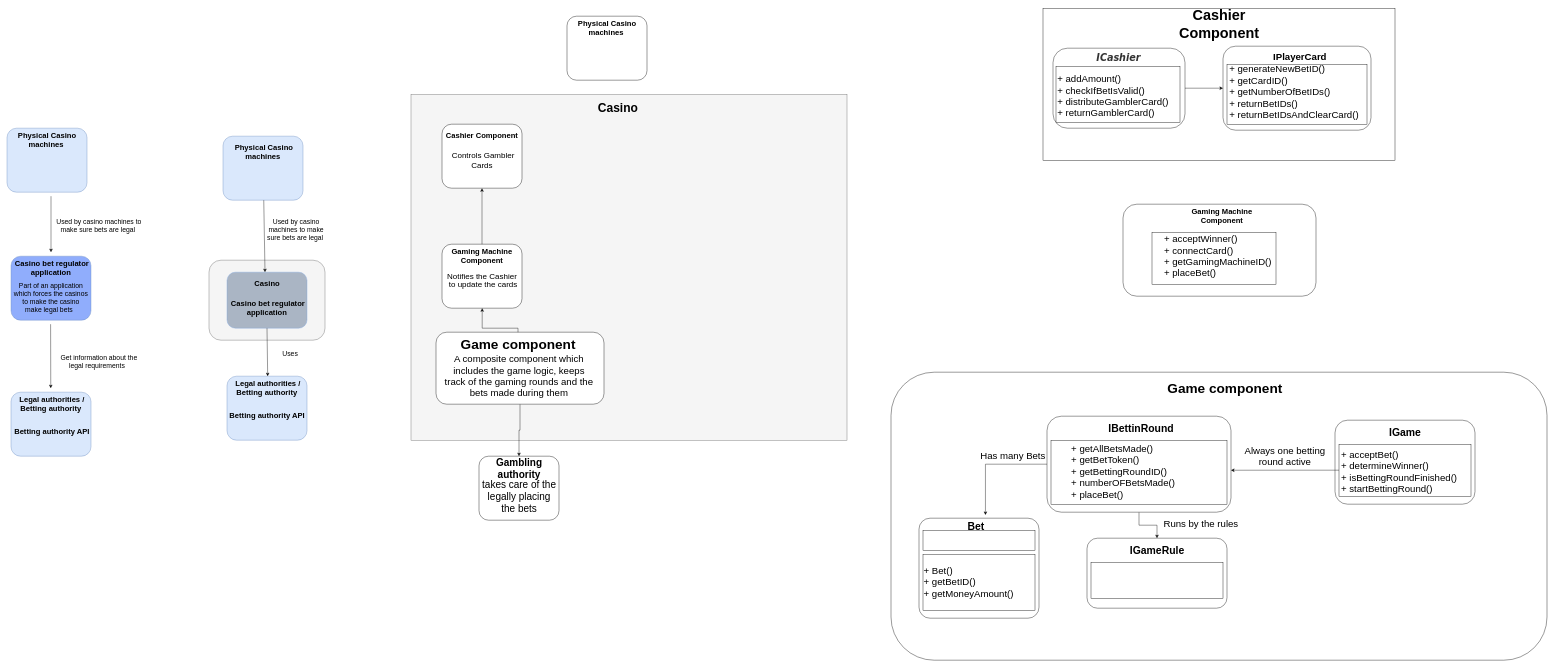
Image size: 1554x667. Some labels were removed from this diagram. The centre of each missing label's shape, as x and y in pixels:
"+ determineWinner() + getMaxBetsPerRound()" belongs at (x=1157, y=580).
"betID : BetIDmoney amount : MoneyAmount" belongs at (x=979, y=540).
